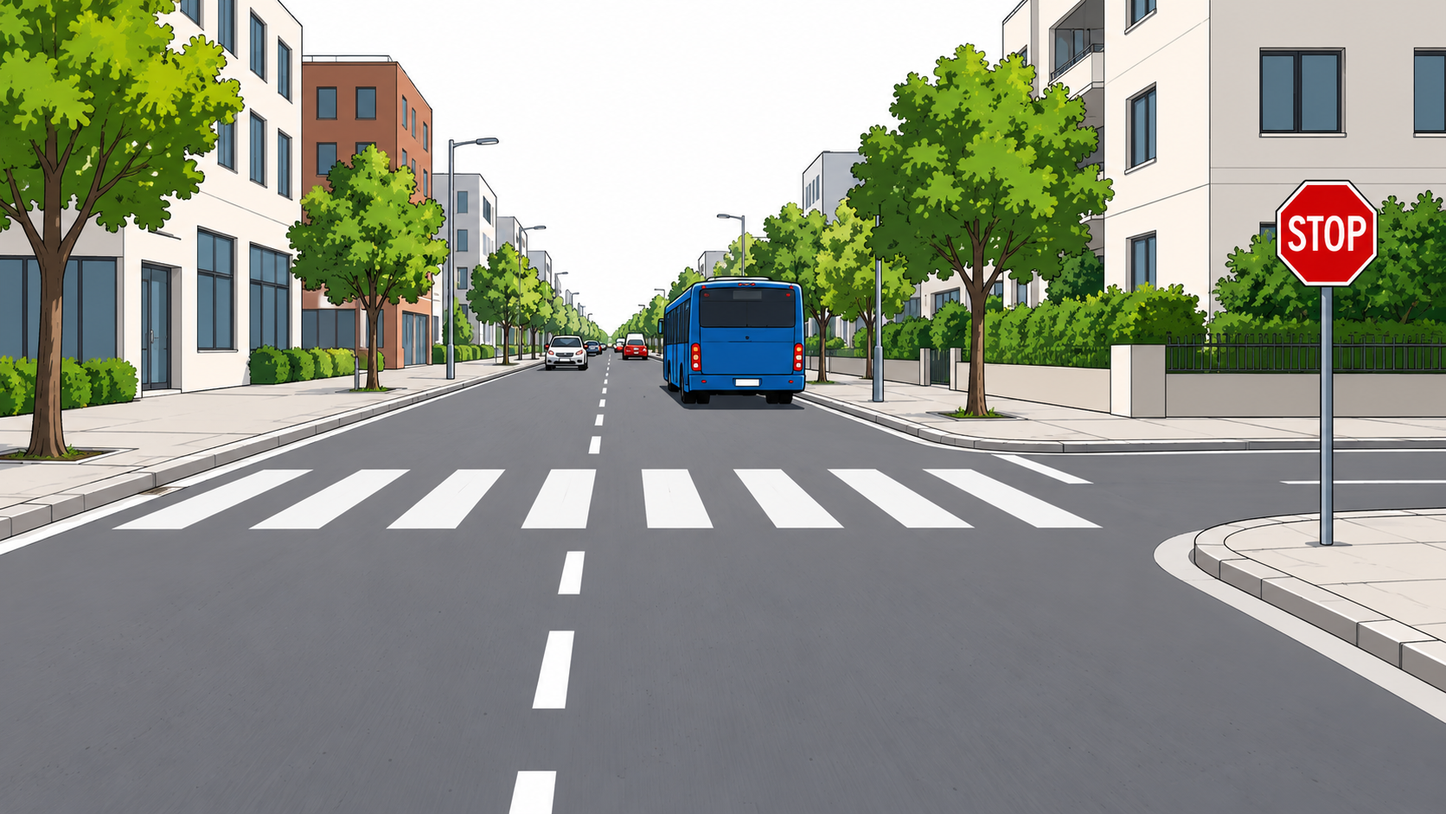bus: (662, 277, 806, 407)
car: (544, 333, 587, 373), (617, 334, 649, 370), (582, 336, 604, 363), (611, 330, 627, 356), (601, 336, 614, 362)
stop_sign: (1276, 180, 1378, 285)
zebra_crossing: (110, 467, 1097, 529)
